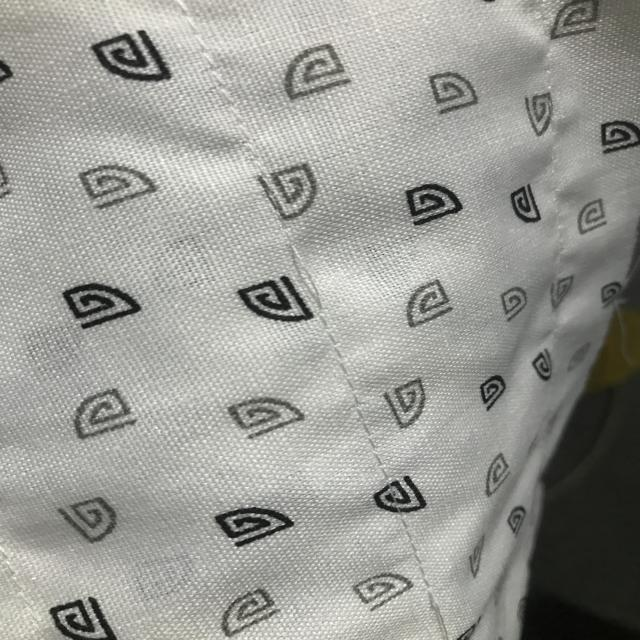skip: (276, 239, 336, 317)
